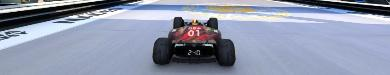Car: (151, 17, 235, 65)
